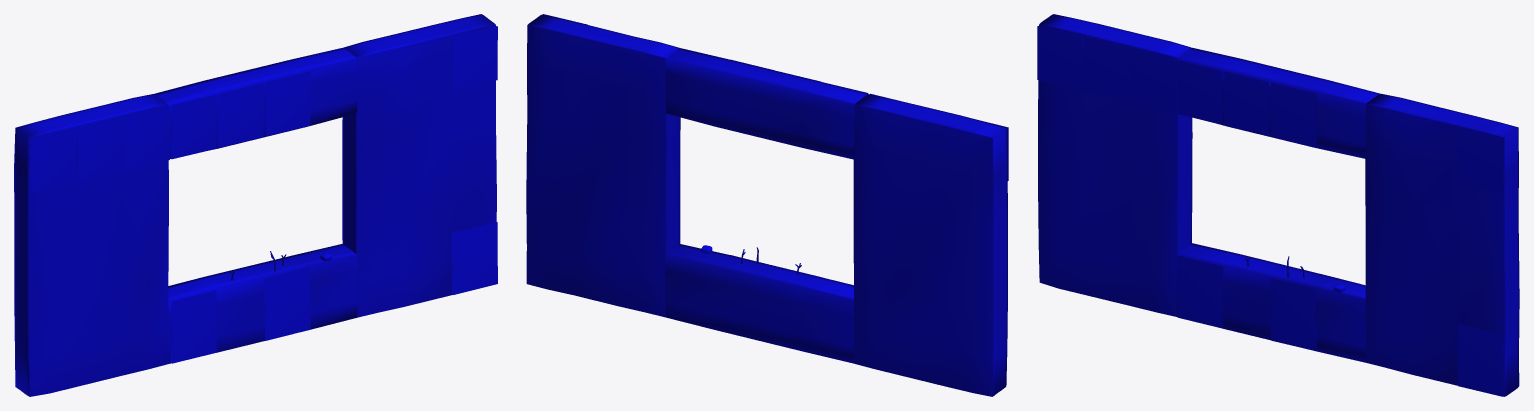
File: tower_bay.glb
3 renders of one model, left to right at view 1: azimuth 30°, elevation 25°; view 2: azimuth 150°, elevation 25°; view 3: azimuth 330°, elevation 25°, orthographic.
Visible parts, largest first — view 1: tower_bay; view 2: tower_bay; view 3: tower_bay.
Boxes of the visible parts, left/top/right/bottom form: tower_bay: left=14, top=14, right=497, bottom=396; tower_bay: left=526, top=14, right=1008, bottom=396; tower_bay: left=1037, top=14, right=1519, bottom=396.
Size of what is drawn, in the model's own units: 6.02 by 3.21 by 0.3833.
